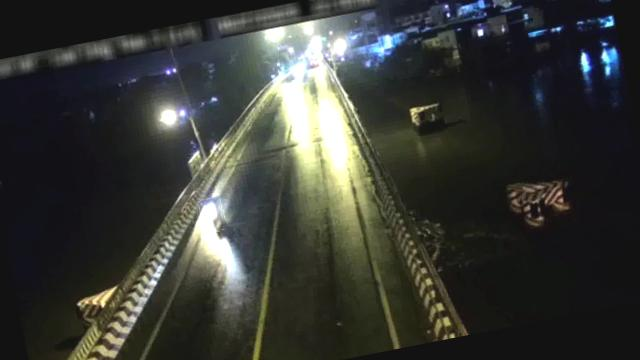Bike: (198, 195, 227, 234)
